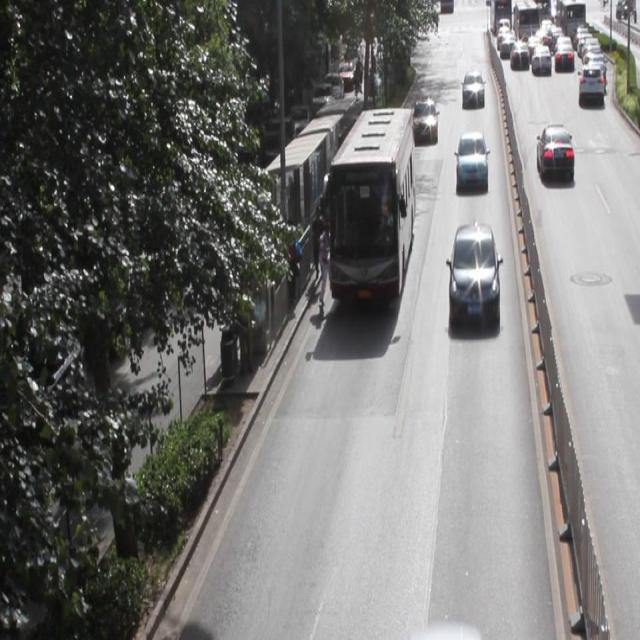car: (448, 222, 498, 322), (534, 122, 573, 180), (455, 132, 486, 186), (412, 96, 438, 142)
van: (329, 107, 412, 303)
